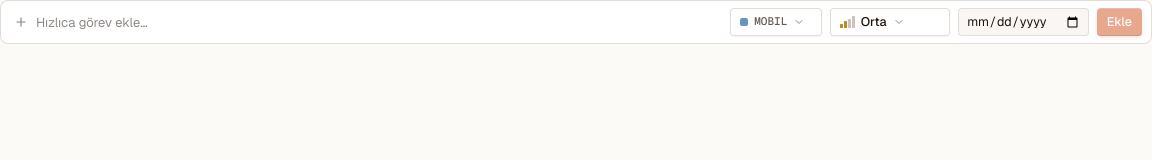
Test: MTQuickAdd › submits with title + first project on enter
Type "Yeni iş" into the field with placeholder "Hızlıca görev ekle…" at (379, 22), box [36,8,722,36]
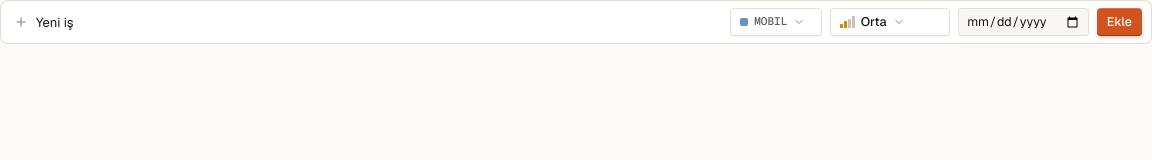
Click the button "Ekle" at (1119, 22), box [1097,8,1142,36]
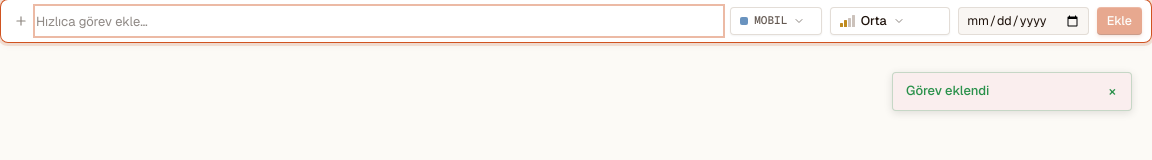
Now the field with placeholder "Hızlıca görev ekle…" is empty, box [36,7,722,35]
